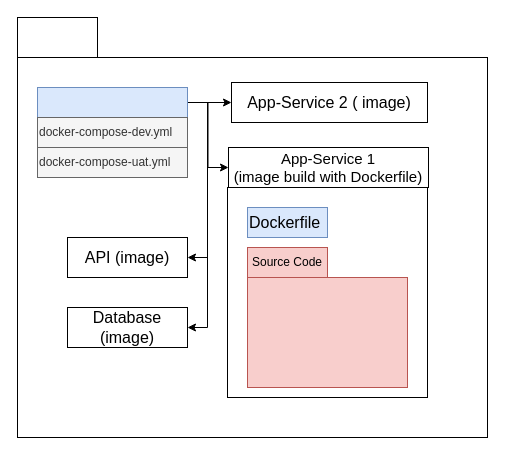
This 505x455 diagram has some shape labels left out. Here are the shapes that lost their labels. From the top down, the box of each, then its label:
(16, 16, 98, 58): Project
(36, 86, 188, 118): docker-compose.yml
(246, 276, 408, 388): Djagno App
